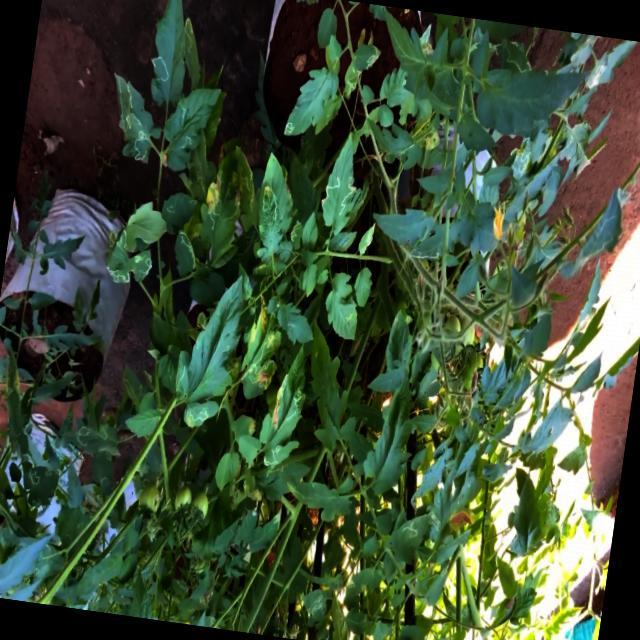Tomato target spot leaf: (170, 268, 248, 434), (192, 141, 252, 272), (256, 339, 314, 471), (237, 274, 291, 403), (158, 82, 222, 176), (144, 0, 198, 110), (101, 72, 160, 166), (316, 129, 364, 238), (283, 63, 341, 142), (0, 347, 41, 457), (223, 144, 268, 233), (102, 228, 166, 290), (362, 118, 426, 173), (422, 462, 460, 546), (383, 506, 432, 569), (252, 186, 290, 266), (321, 270, 364, 340), (59, 417, 124, 463), (254, 458, 312, 506), (408, 218, 462, 266), (176, 16, 209, 90), (296, 116, 334, 180), (509, 130, 550, 184), (159, 190, 199, 240), (274, 300, 318, 345), (491, 37, 536, 78), (20, 463, 60, 509), (170, 229, 200, 279), (298, 586, 332, 621), (352, 42, 382, 75), (586, 50, 608, 90), (235, 227, 261, 260), (341, 60, 361, 102), (288, 220, 304, 252)
